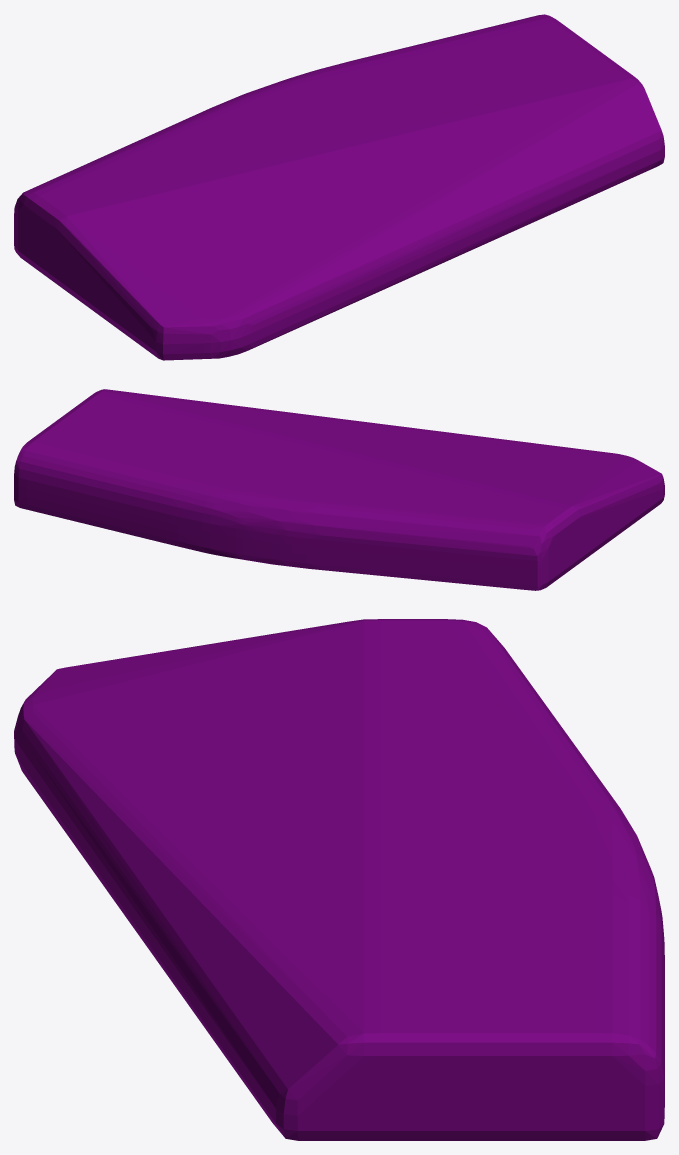
File: right_ankle_link_part_11.obj
3 views of the same model, one above another, from view 1: azimuth 30°, elevation 25°; view 2: azimuth 150°, elevation 25°; view 3: azimuth 270°, elevation 25° (orthographic). The views are drawn at different scales.
Bounding box in the file's own units: 0.0764 × 0.00887 × 0.0492.
